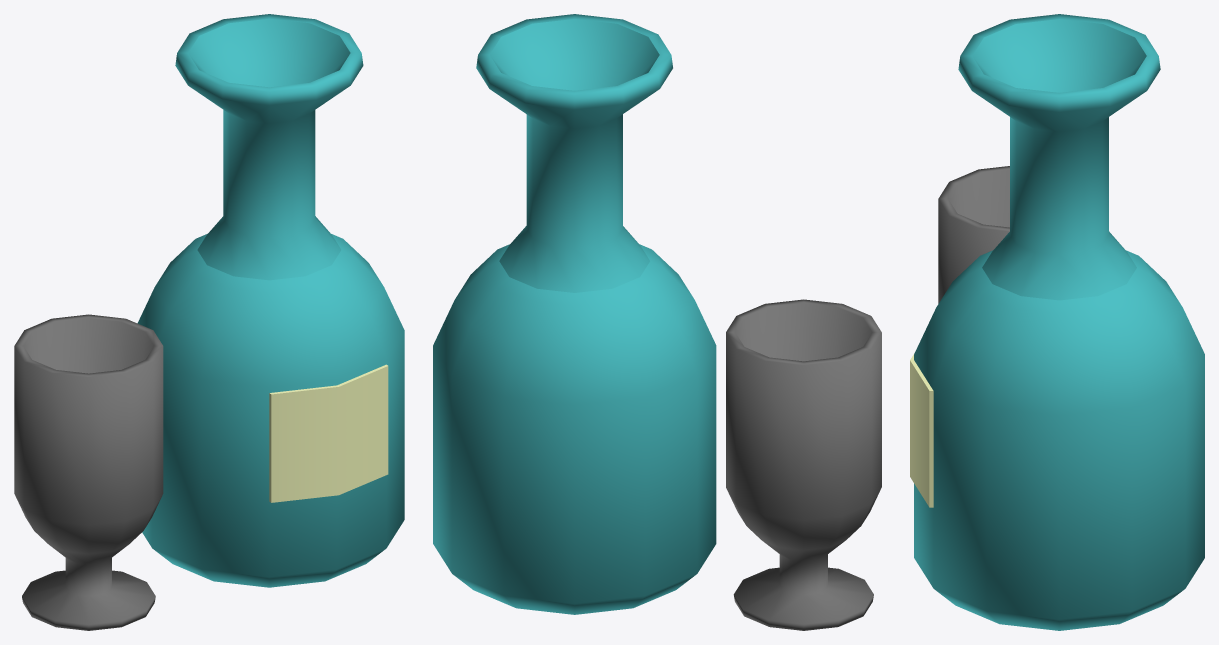
File: GB_080_bottle_glass.glb
The picture shows the model from 3 angles, left to right: view 1: azimuth 30°, elevation 25°; view 2: azimuth 150°, elevation 25°; view 3: azimuth 270°, elevation 25°; orthographic projection. The views are drawn at different scales.
Visible parts, largest first — view 1: bottle, Glass, bottle_label; view 2: bottle, Glass; view 3: bottle, Glass, bottle_label.
Part boxes in pixels (box(x1,y1,x2,y2)): bottle: box(137, 14, 404, 587); Glass: box(14, 314, 163, 630); bottle_label: box(269, 364, 388, 502); bottle: box(433, 14, 716, 614); Glass: box(726, 299, 881, 630); bottle: box(914, 14, 1204, 630); Glass: box(938, 166, 1009, 303); bottle_label: box(910, 353, 933, 507).
Size of the model in its own units: 0.6151 by 0.7515 by 0.3832.
